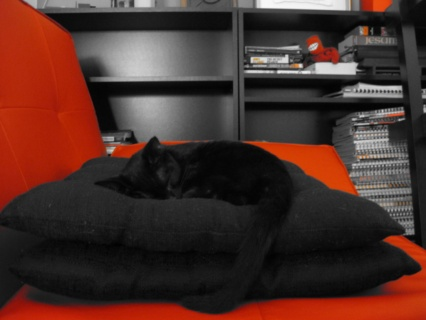Cat: (93, 135, 294, 314)
